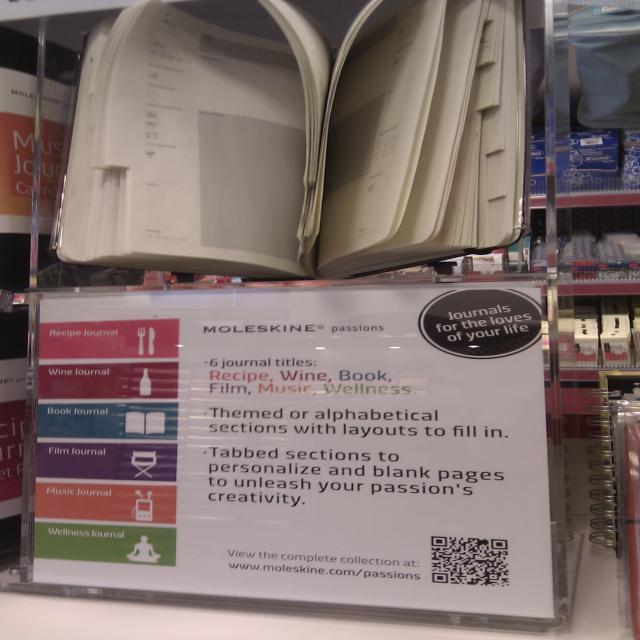qrcode: (433, 537, 510, 588)
